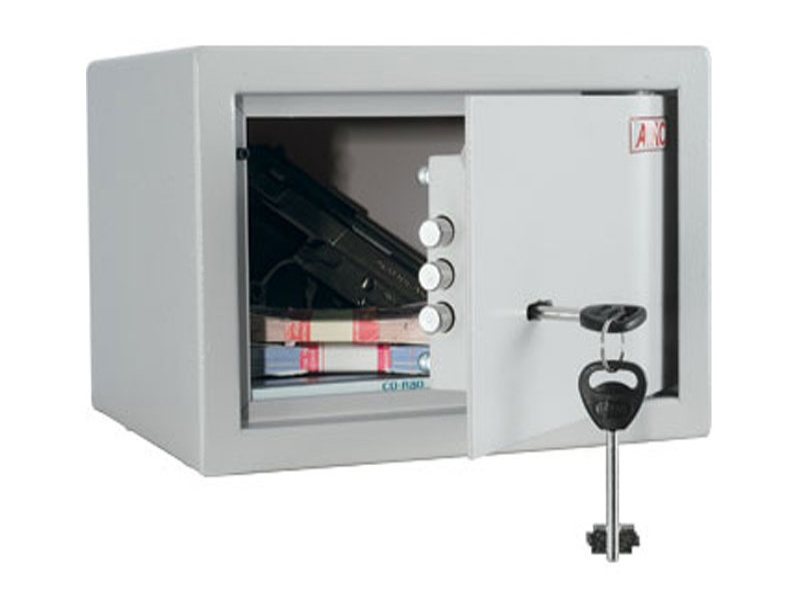cash: (248, 301, 435, 377)
weapon: (248, 132, 428, 307)
